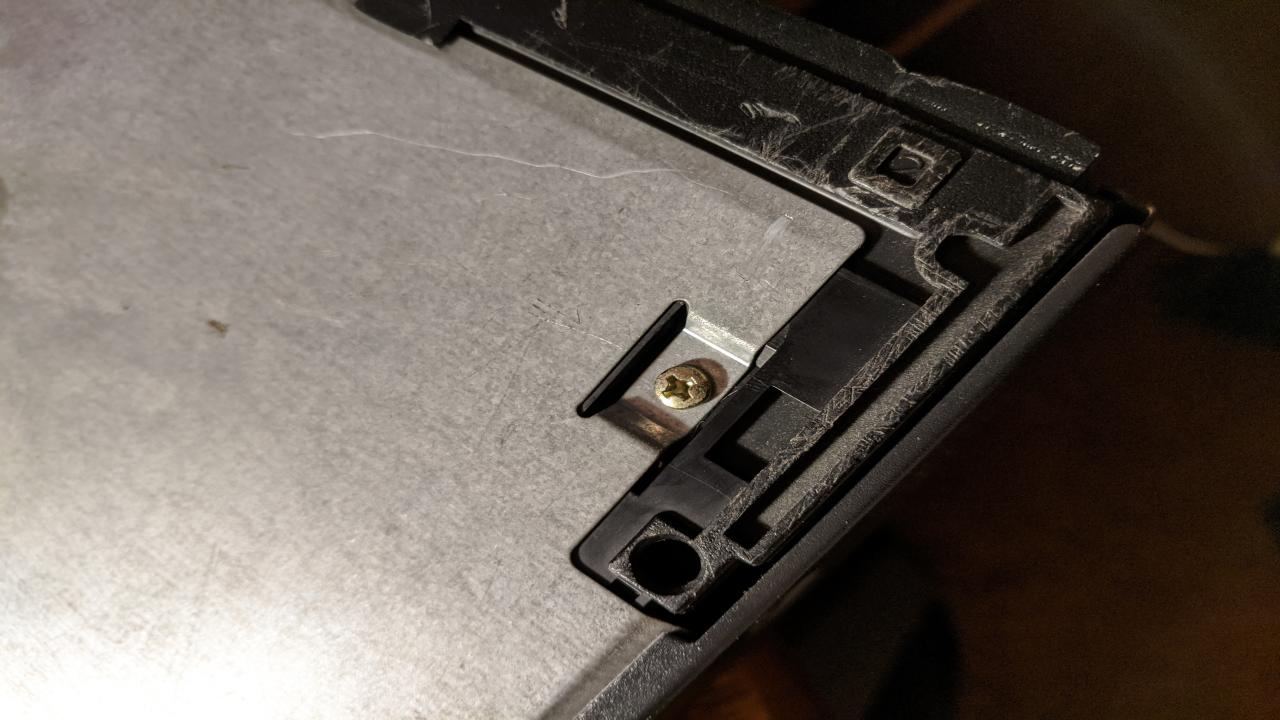CRS: (649, 366, 712, 409)
